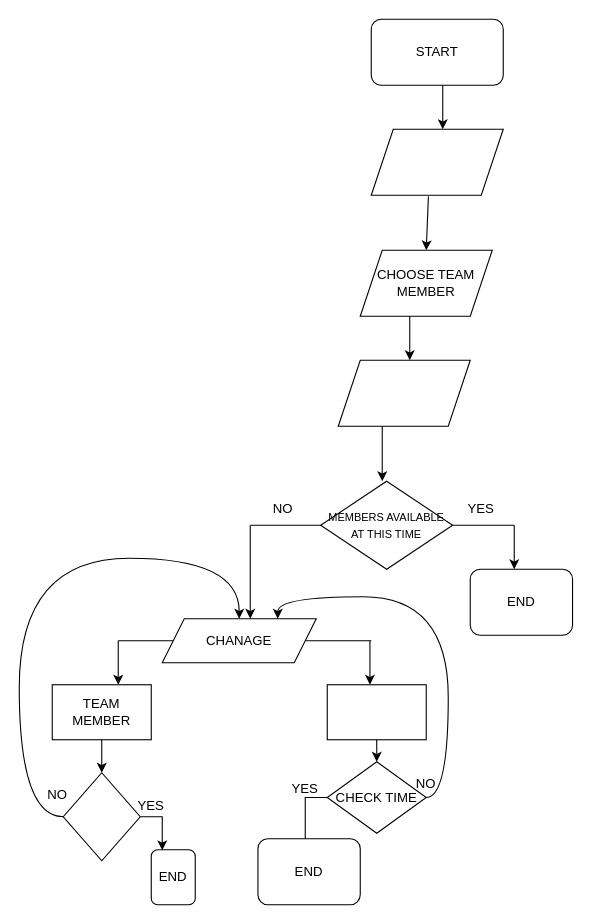
Image size: 592x924. Some labels were removed from this diagram. The centre of each missing label's shape, as x and y in pixels:
"CHECK TEAM MEMBER" goes at point (101, 816).
"CHOOSE SERVICE" goes at point (436, 161).
"CHOOSE TIME" goes at point (403, 392).
"TIME" goes at point (376, 712).
